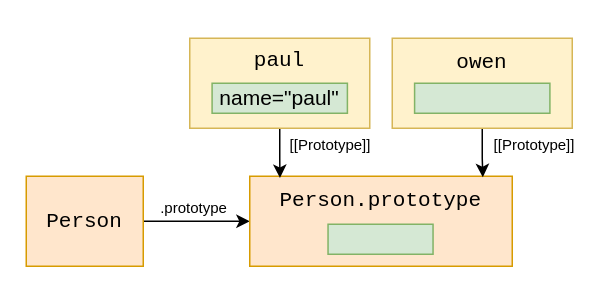
Some shapes in this 606 by 300 pixel diagram are drawn without their labels. Each missing label, with the box of its shape:
name="owen": (413, 82, 550, 113)
sayName(): (327, 223, 433, 254)
